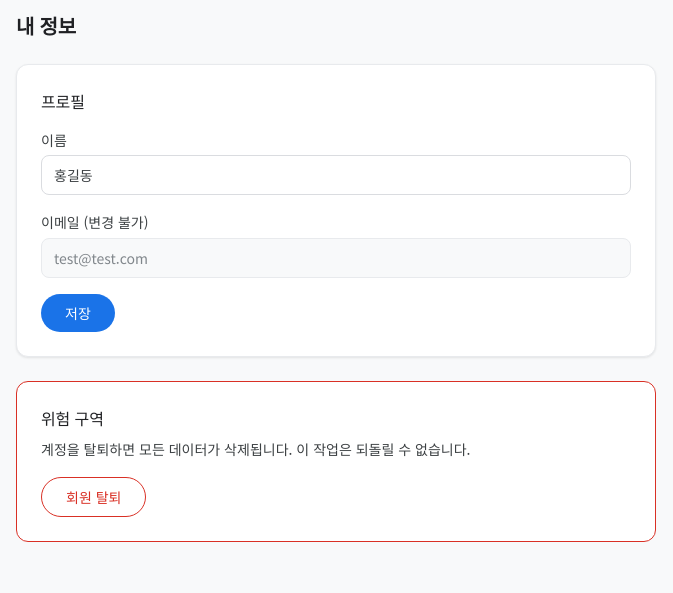
ProfilePage › 수정 API 실패 시 에러 메시지가 표시된다
This screenshot has width=673, height=593.
Expected: the field showing "홍길동" is shown, [41,155,631,195]
Click the button "저장" at (78, 313), box [41,294,115,332]
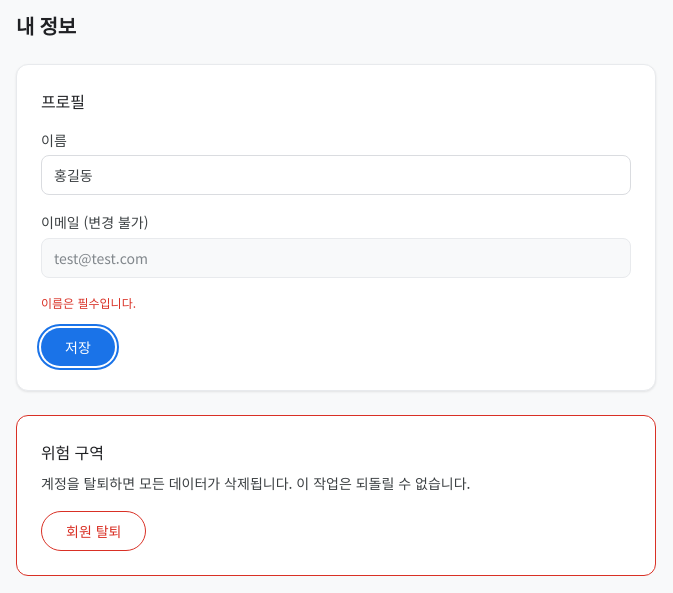
Expected: the text "이름은 필수입니다." is shown, [41,294,136,311]
